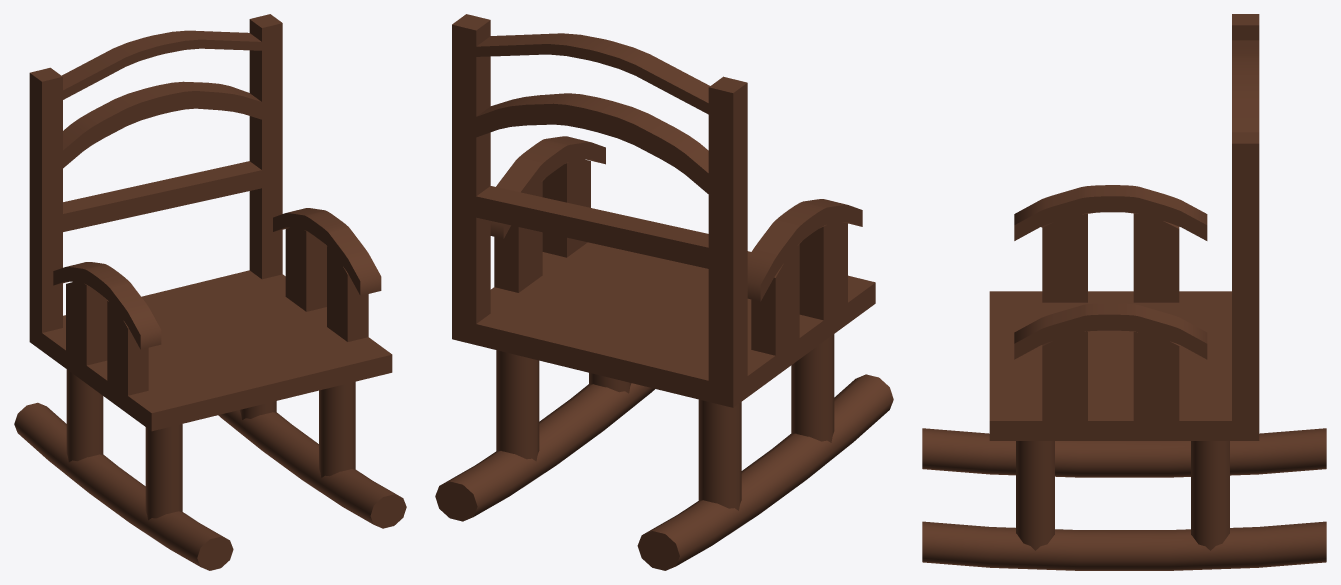
File: ChairSullen.fbx
The picture shows the model from 3 angles, left to right: view 1: azimuth 30°, elevation 25°; view 2: azimuth 150°, elevation 25°; view 3: azimuth 270°, elevation 25°; orthographic projection. The views are drawn at different scales.
Parts seen in each view (by area): view 1: Chair for Sullen; view 2: Chair for Sullen; view 3: Chair for Sullen.
Part boxes in pixels (x1,y1,x2,y2): Chair for Sullen: [14, 14, 406, 570]; Chair for Sullen: [435, 14, 893, 570]; Chair for Sullen: [922, 14, 1326, 570].
Bounding box in the file's own units: 66.8 × 108 × 87.95.
